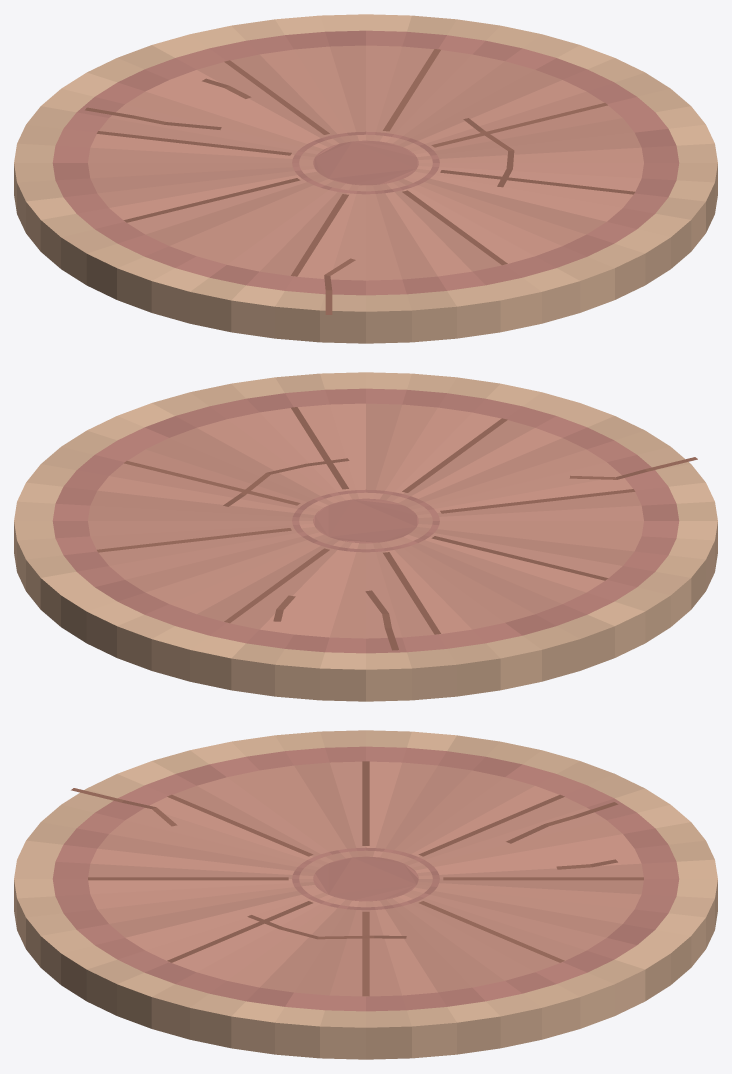
Rendered from Floor_Arena_Center.fbx.
3 views of the same model, one above another, from view 1: azimuth 30°, elevation 25°; view 2: azimuth 150°, elevation 25°; view 3: azimuth 270°, elevation 25° (orthographic).
Visible parts, largest first — view 1: Floor_Arena_Center; view 2: Floor_Arena_Center; view 3: Floor_Arena_Center.
Part boxes in pixels (<box>): Floor_Arena_Center: <box>14,14,717,343</box>; Floor_Arena_Center: <box>14,372,717,701</box>; Floor_Arena_Center: <box>14,730,717,1059</box>.
Size of the model in its own units: 10 by 0.504 by 10.
